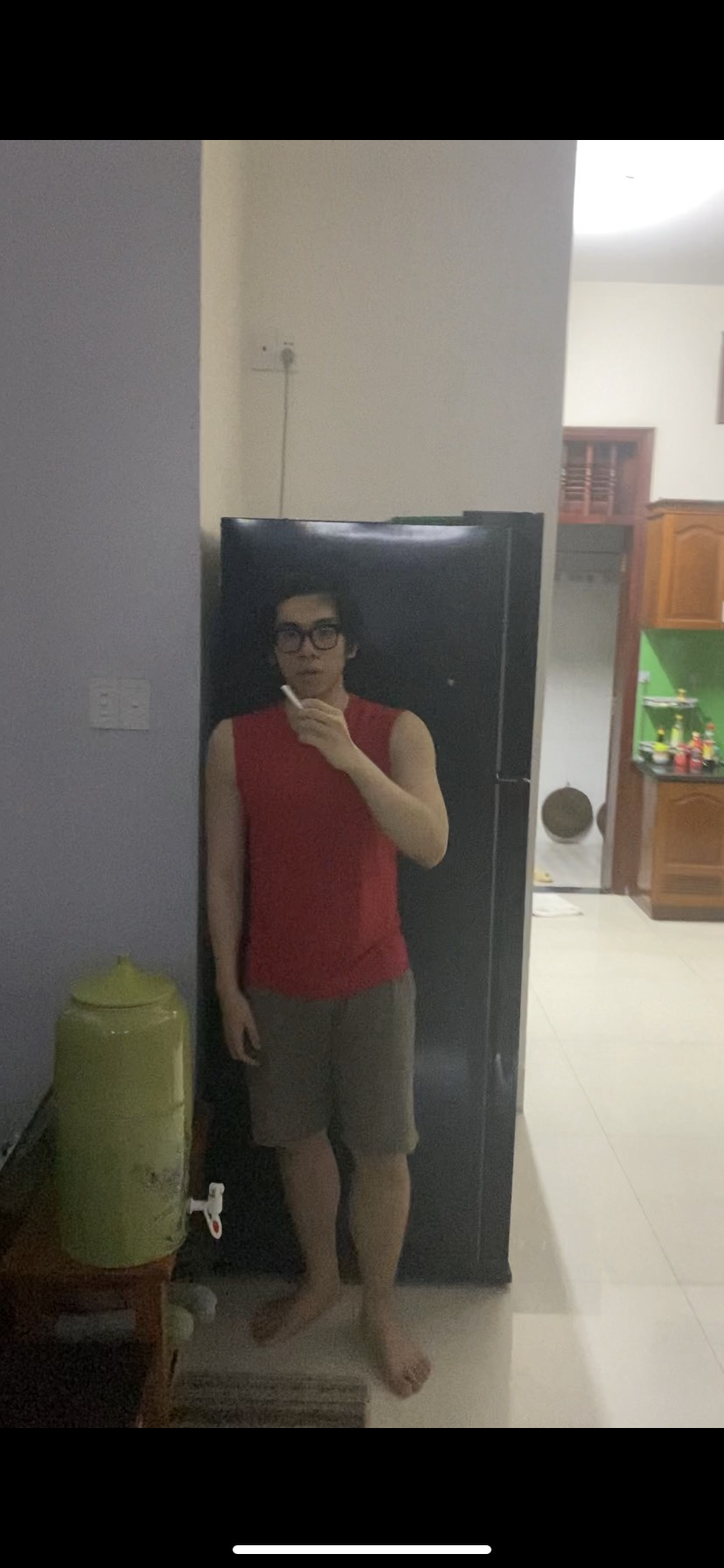cigarette: (275, 679, 305, 710)
person: (199, 533, 448, 1389)
